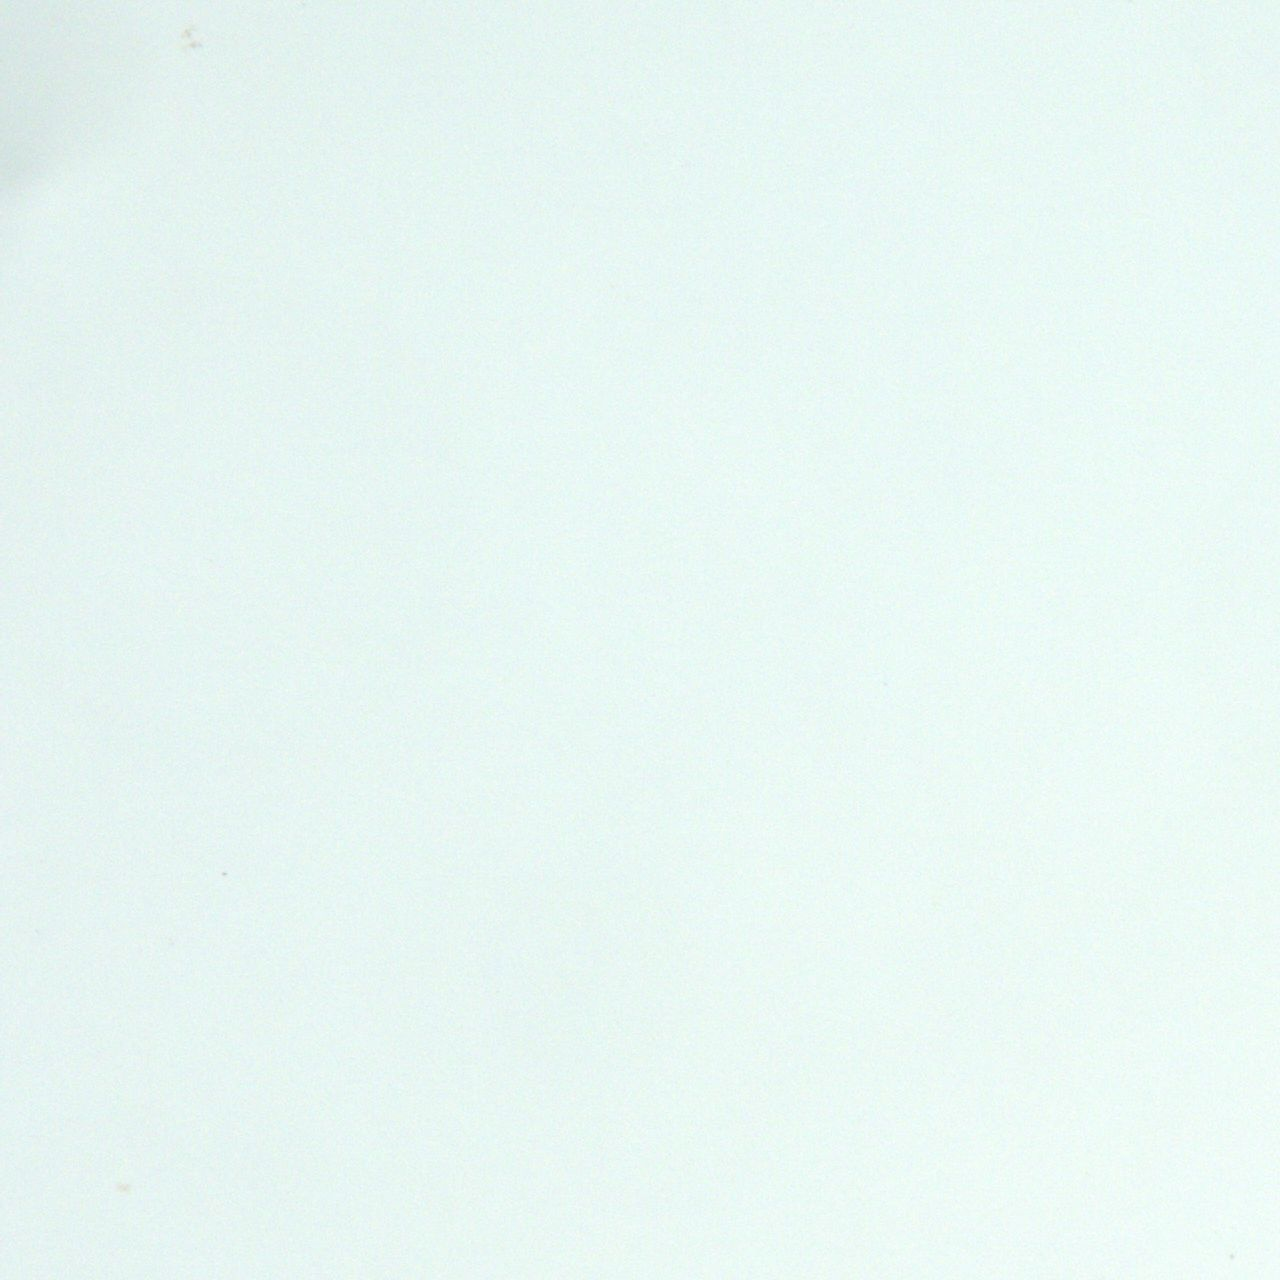dust: (1228, 1252, 1234, 1257)
